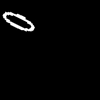chain: (3, 12, 33, 30)
